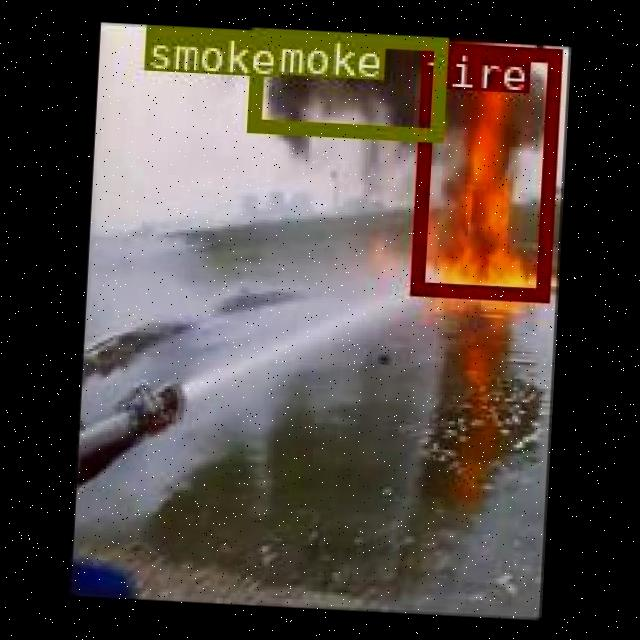fire: (410, 40, 560, 298)
smoke: (244, 25, 446, 138), (143, 24, 240, 72)
